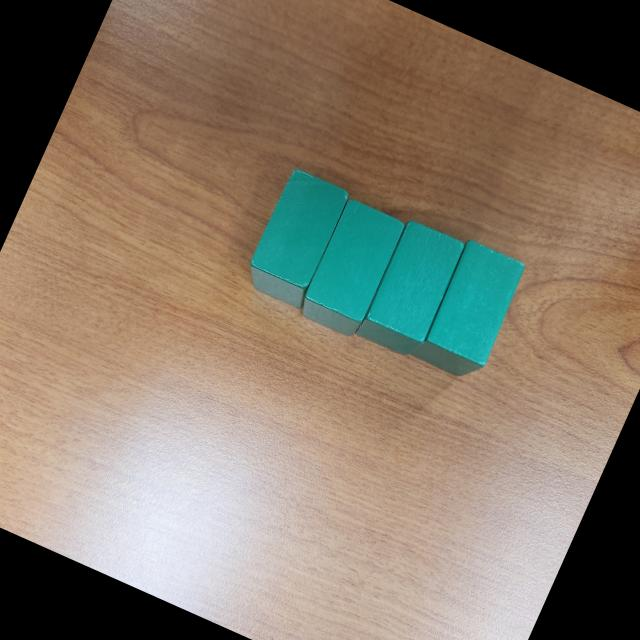green: (408, 236, 530, 388), (352, 214, 470, 364), (238, 166, 354, 315), (294, 196, 410, 344)
